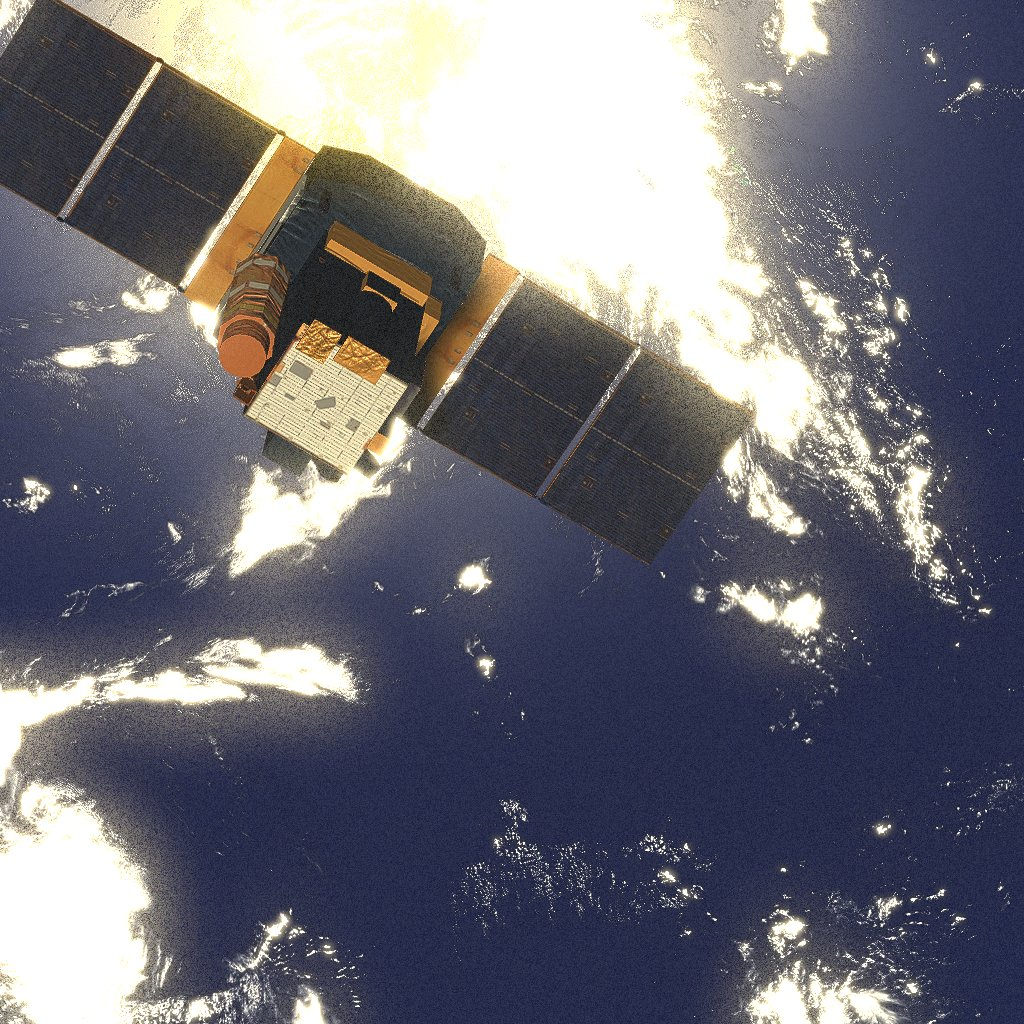soho: (26, 32, 741, 580)
